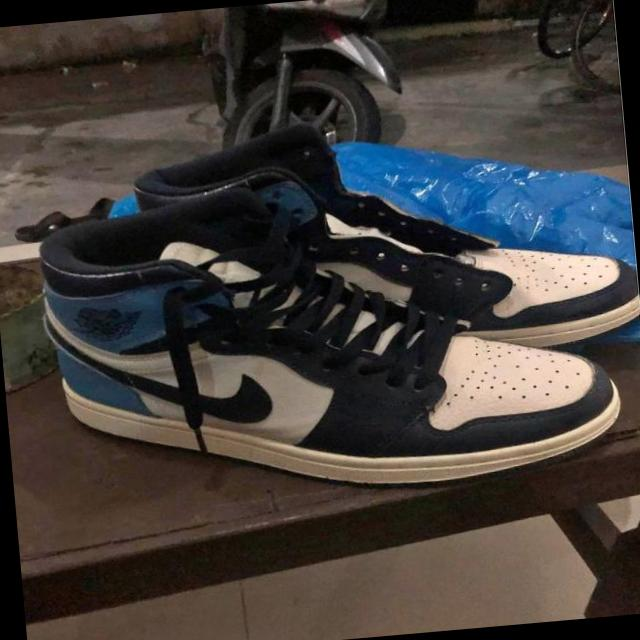nike_fake_jordan: (32, 154, 630, 526), (126, 93, 640, 384)
